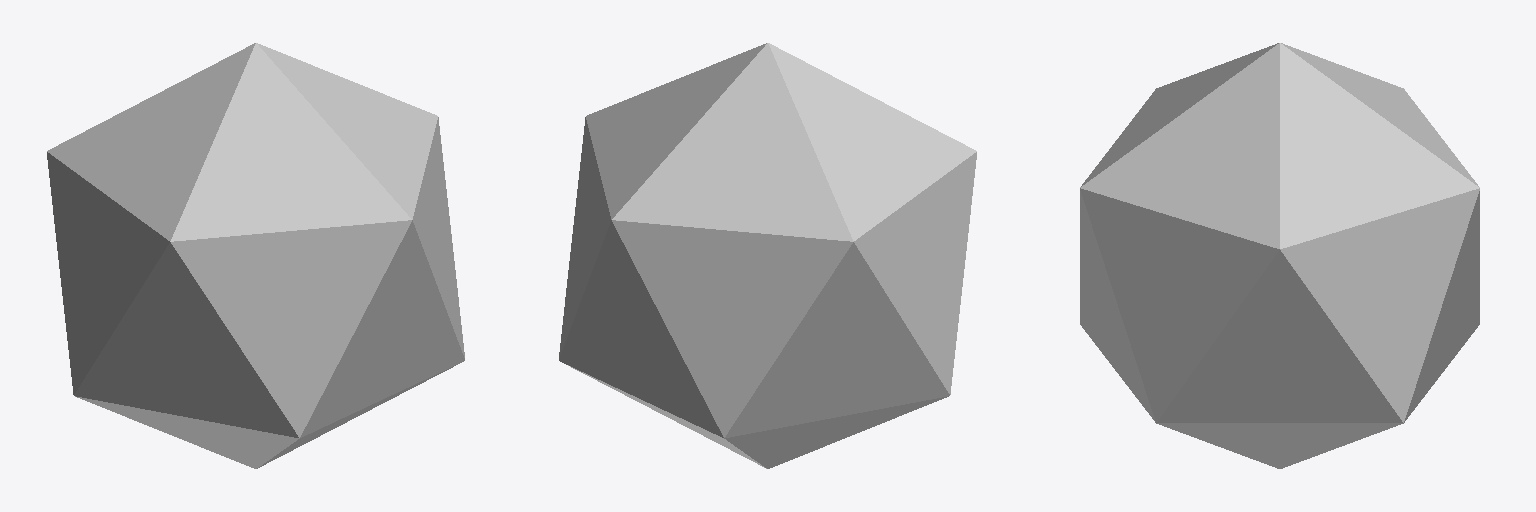
The model's file is bullet.obj.
The picture shows the model from 3 angles: view 1: azimuth 30°, elevation 25°; view 2: azimuth 150°, elevation 25°; view 3: azimuth 270°, elevation 25°; orthographic projection.
Visible parts, largest first — view 1: Icosphere; view 2: Icosphere; view 3: Icosphere.
Part boxes in pixels (x1,y1,x2,y2): Icosphere: (47, 43, 464, 468); Icosphere: (559, 43, 976, 468); Icosphere: (1080, 43, 1479, 468).
Bounding box in the file's own units: 0.4744 × 0.5304 × 0.4512.